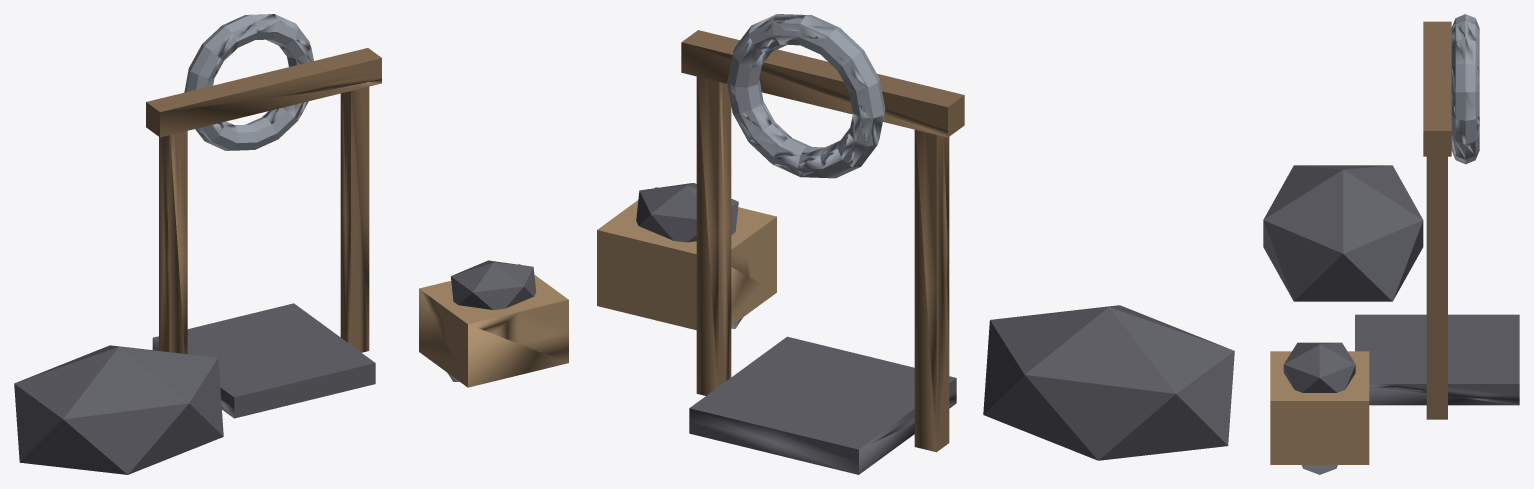
File: coal_mine.glb
The picture shows the model from 3 angles, left to right: view 1: azimuth 30°, elevation 25°; view 2: azimuth 150°, elevation 25°; view 3: azimuth 270°, elevation 25°; orthographic projection. The views are drawn at different scales.
Visible parts, largest first — view 1: CoalMineLegL; view 2: CoalMineLegL; view 3: CoalMineLegL.
Boxes of the visible parts, x1,y1,x2,y2 form: CoalMineLegL: (14, 14, 568, 474); CoalMineLegL: (597, 14, 1234, 474); CoalMineLegL: (1263, 14, 1519, 474).
Size of the model in its own units: 2.54 by 1.74 by 1.09.
